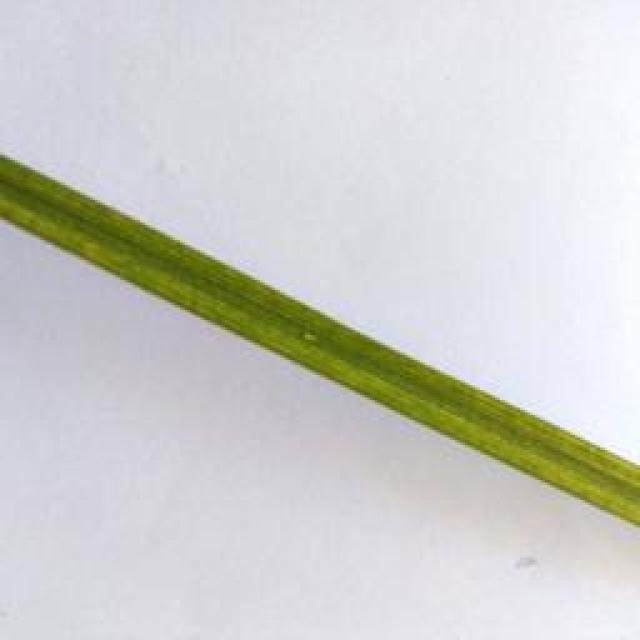Healthy-Plant: (0, 155, 640, 520)
